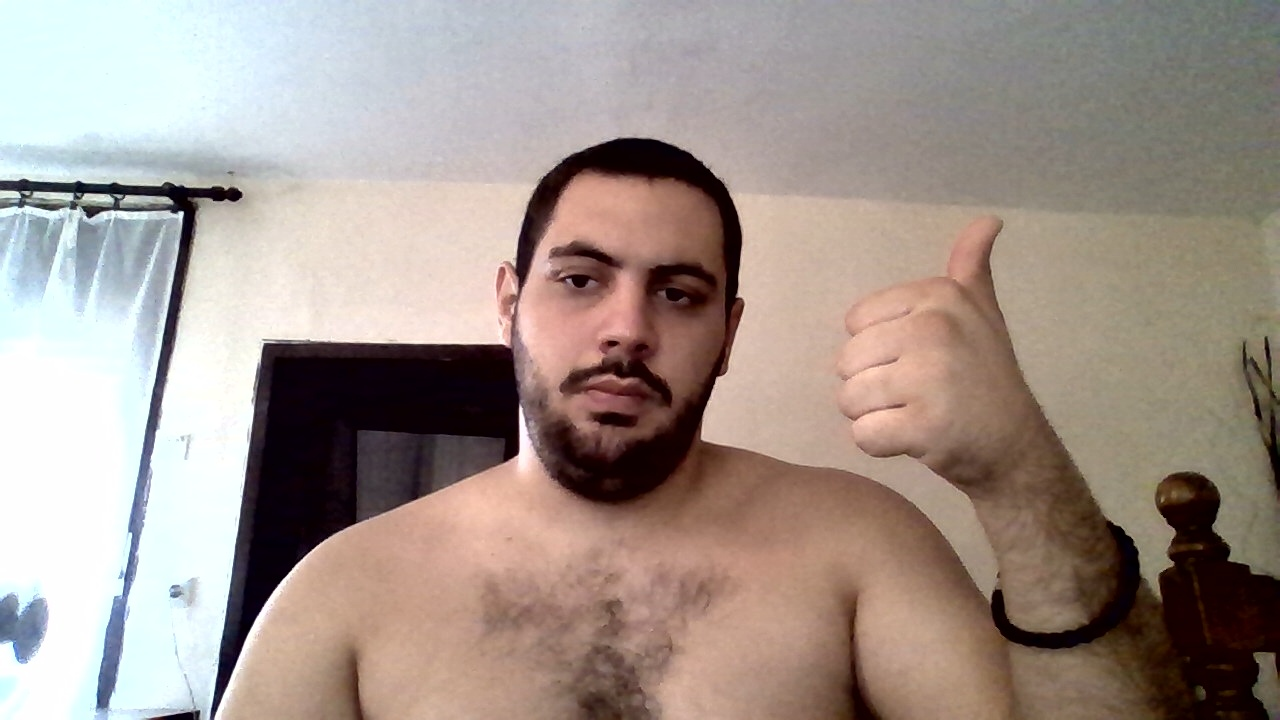like: (835, 215, 1050, 490)
